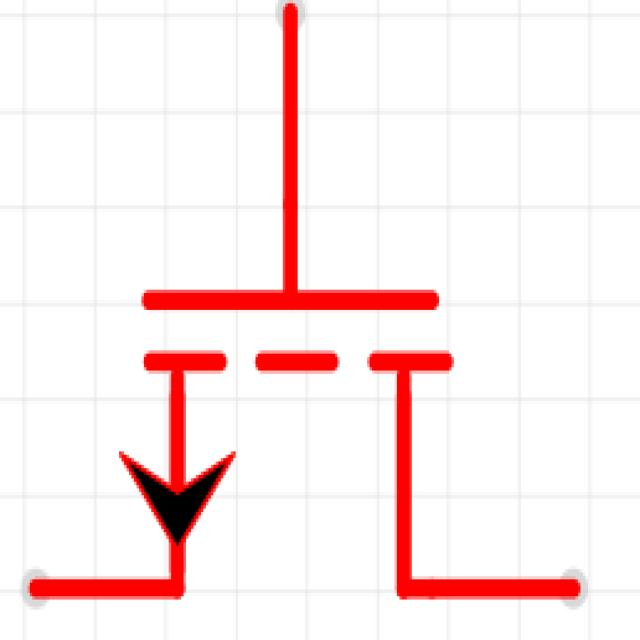nmos: (24, 1, 603, 622)
